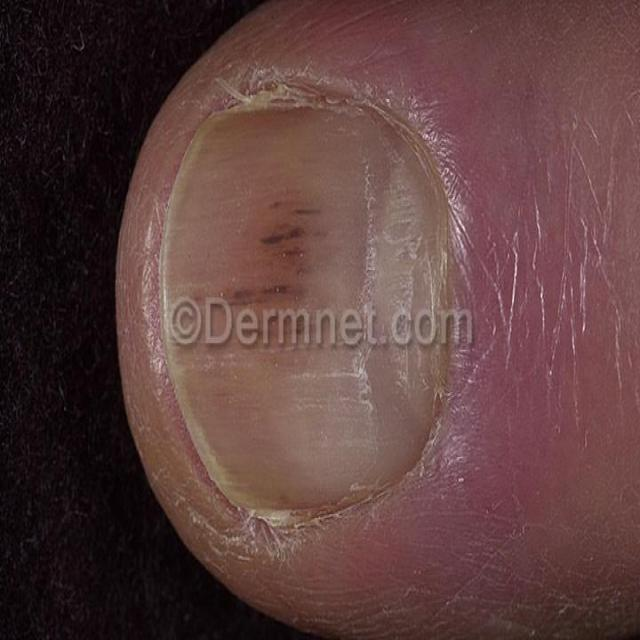Nail: (157, 100, 443, 527)
